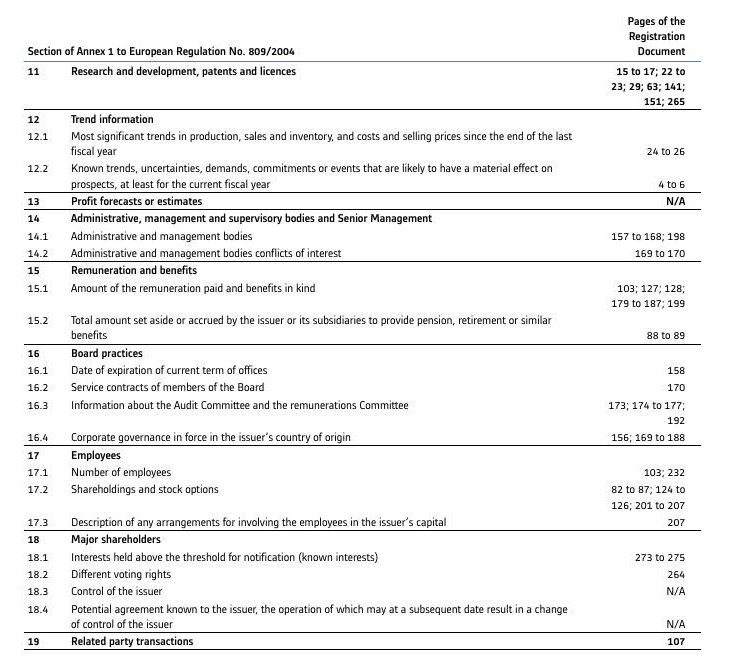table: (0, 0, 729, 670)
